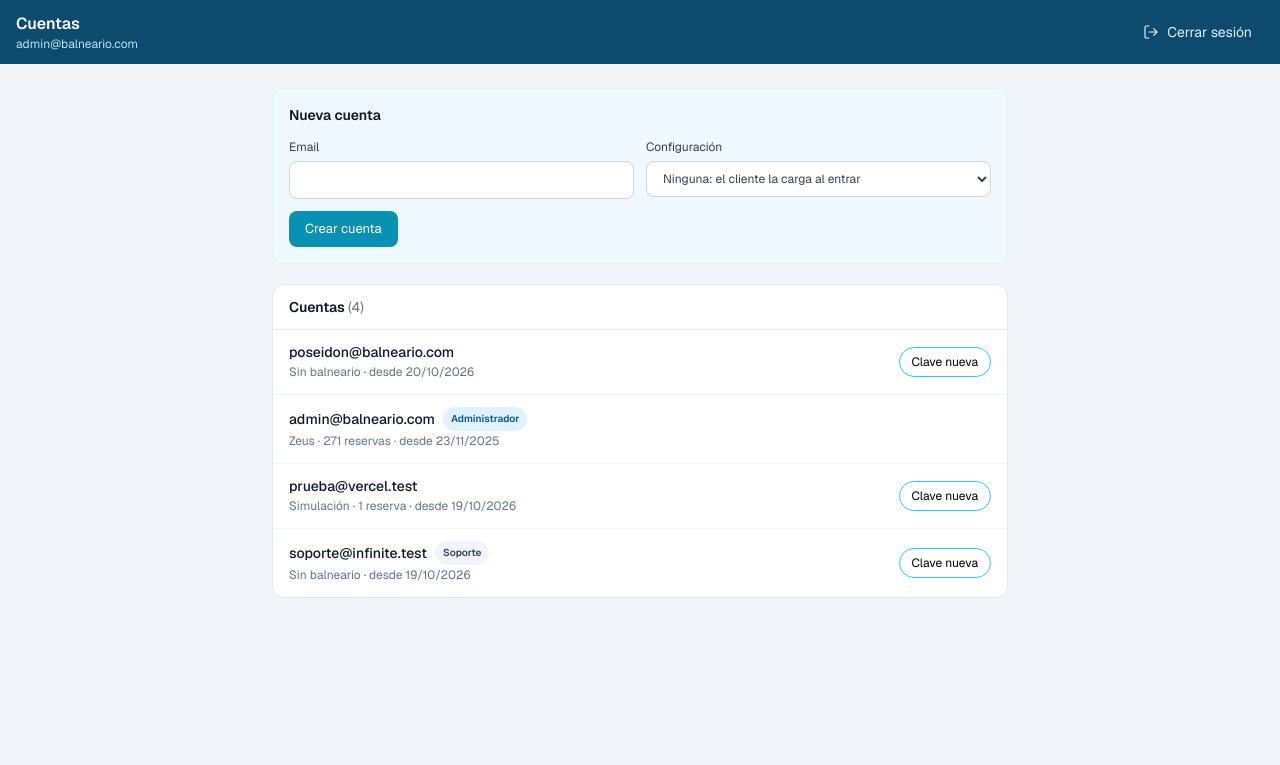
Test: panel de cuentas › con un modelo pide el nombre y manda de que balneario copiar
Expected: the list named "Cuentas" is shown, x1=273 y1=330 x2=1007 y2=597
Expected: the field labelled "Nombre del balneario" is not shown
Select "Copiar de Zeus" in the dropdown labelled "Configuración": (818, 179) x1=646 y1=161 x2=991 y2=197
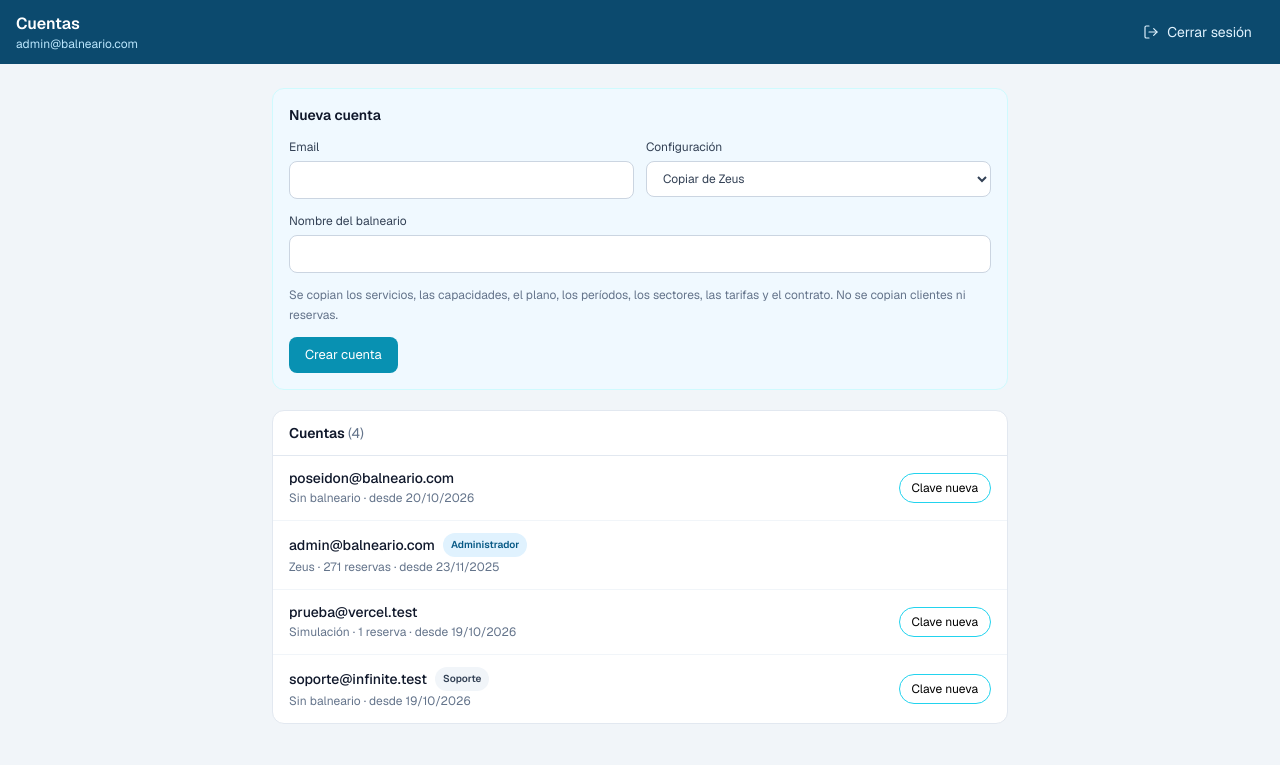
In the field labelled "Email": (462, 180) x1=289 y1=161 x2=634 y2=199, type "zeus@balneario.com"
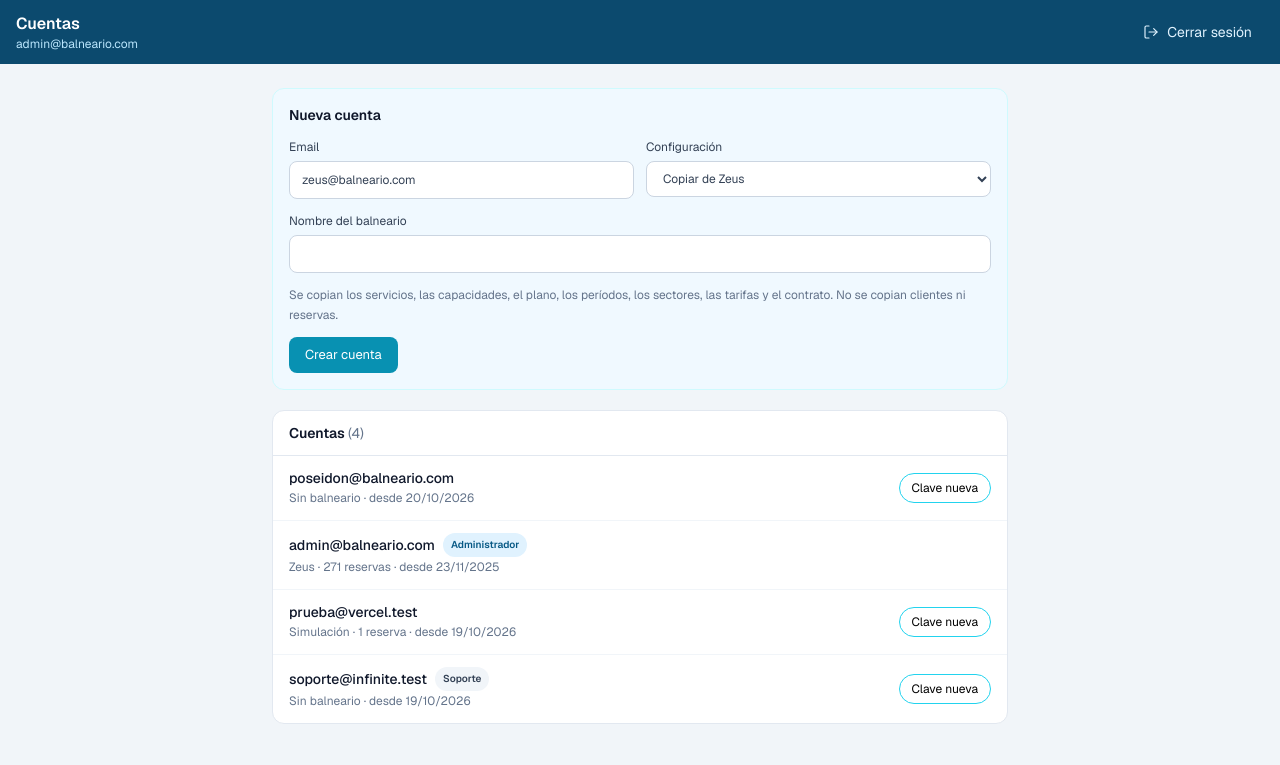
In the field labelled "Nombre del balneario": (640, 254) x1=289 y1=235 x2=991 y2=273, type "Balneario Zeus"
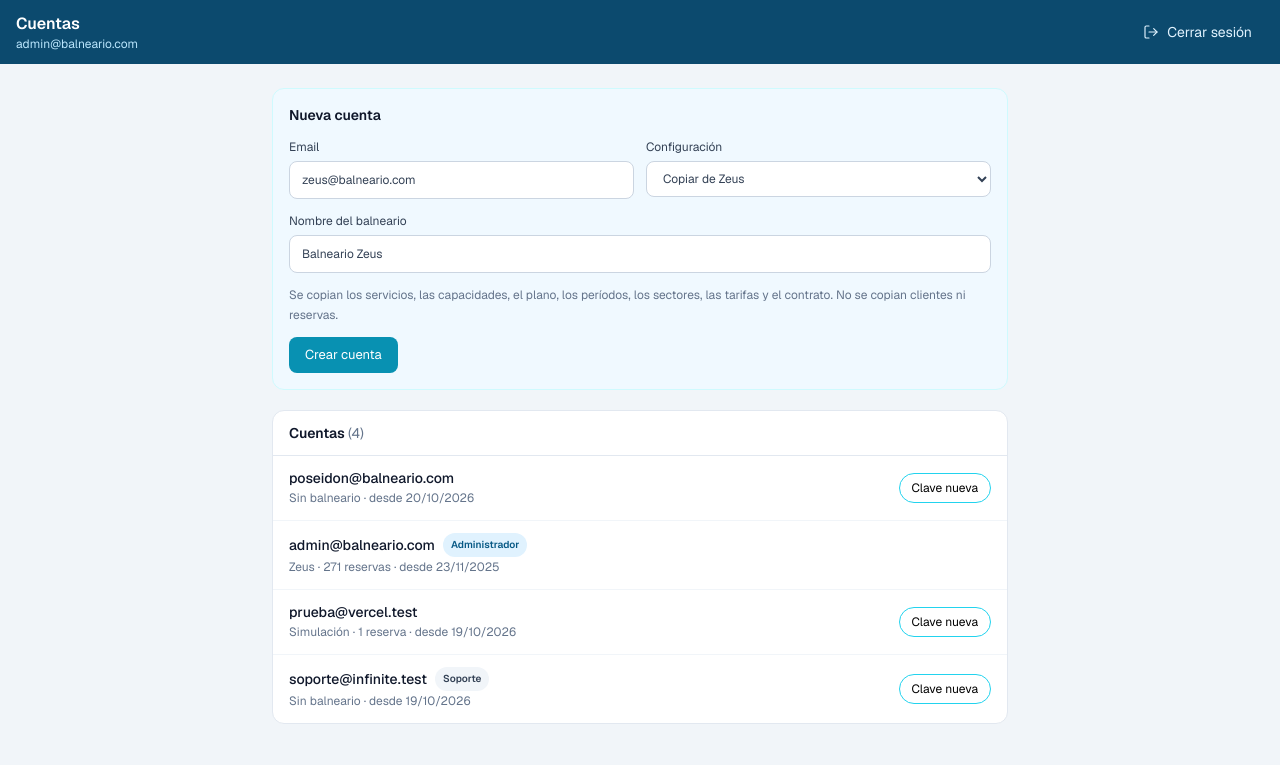
Click the button "Crear cuenta": (343, 355) x1=289 y1=337 x2=398 y2=373
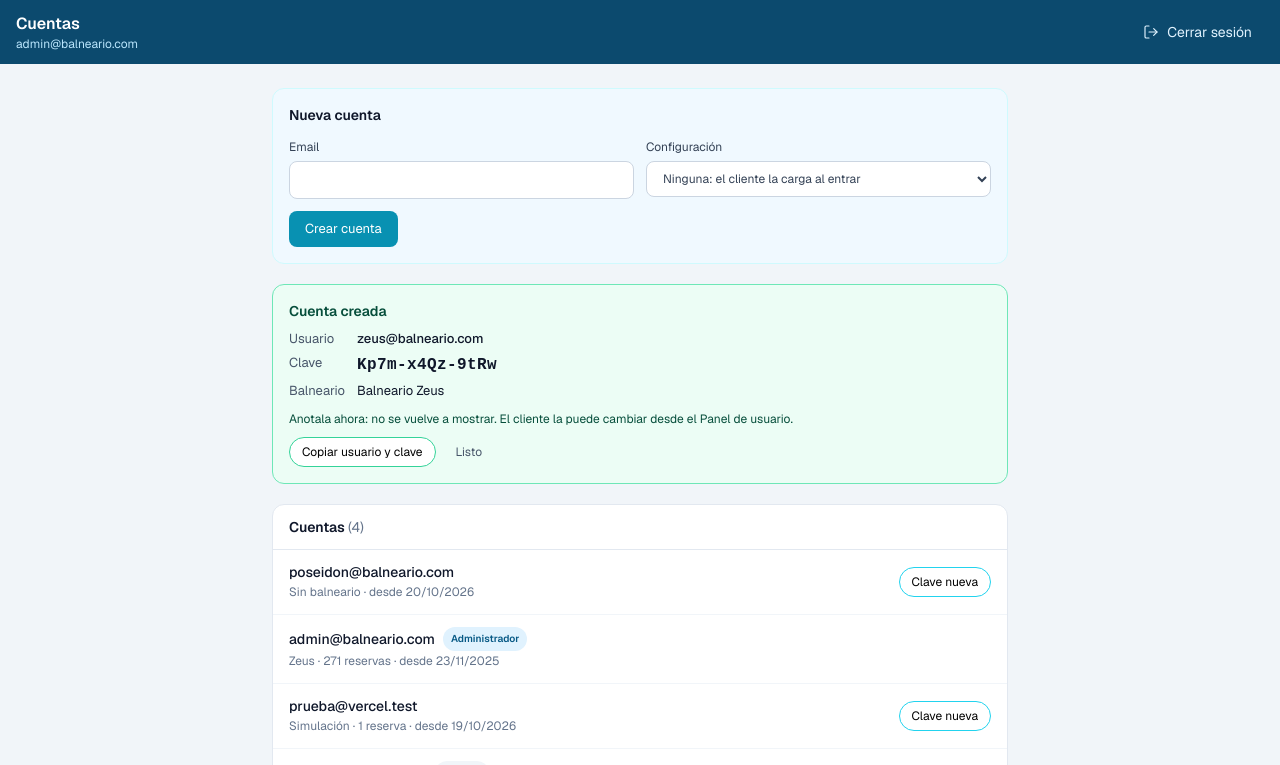
Now the text "Balneario Zeus" is shown, box x1=357 y1=382 x2=444 y2=399
